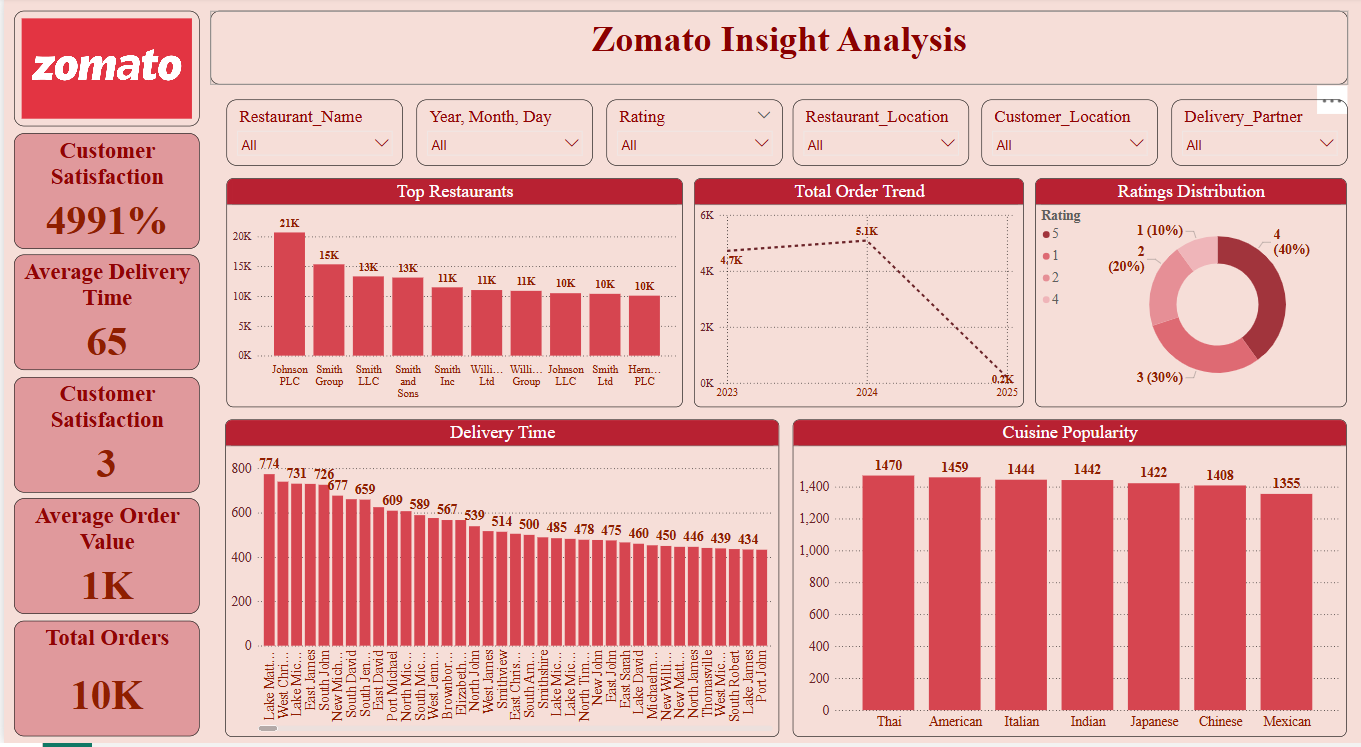

What the dashboard file says about the page in this screenshot:
{"tool":"powerbi","page":{"name":"Page 1","canvas":[2000,1100],"ordinal":0},"visuals":[{"type":"card","title":"Total Orders","fields":{"Values":["Count(Sheet1.Order_ID)"]},"box":[15,919.5,273.4,170.4],"z":0},{"type":"card","title":"Average Delivery Time","fields":{"Values":["Avg(Sheet1.Delivery_Time_Minutes)"]},"box":[15,380.1,273.4,170.4],"z":1000},{"type":"card","title":"Average Order Value","fields":{"Values":["Avg(Sheet1.Order_Amount)"]},"box":[15,739.7,273.4,170.4],"z":2000},{"type":"card","title":"Customer Satisfaction","fields":{"Values":["Avg(Sheet1.Rating)"]},"box":[15,559.9,273.4,170.4],"z":3000},{"type":"card","title":"Customer Satisfaction","fields":{"Values":["Sheet1.Discount Utilization (%)"]},"box":[15,200.4,273.4,170.4],"z":4000},{"type":"lineChart","title":"Total Order Trend","fields":{"Category":["Sheet1.Order_Date.Variation.Date Hierarchy.Year"],"Y":["CountNonNull(Sheet1.Order_ID)"]},"box":[1017.4,267.3,486.6,337.3],"z":5000},{"type":"columnChart","title":" Delivery Time","fields":{"Category":["Sheet1.Customer_Location"],"Y":["Sum(Sheet1.Delivery_Time_Minutes)"]},"box":[326.2,623,816.5,468.2],"z":6000},{"type":"columnChart","title":"Top Restaurants","fields":{"Category":["Sheet1.Restaurant_Name"],"Y":["Sum(Sheet1.Order_Amount)"]},"box":[328.1,267.3,672.8,337.3],"z":7000},{"type":"donutChart","title":"Ratings Distribution","fields":{"Category":["Sheet1.Rating"],"Y":["CountNonNull(Sheet1.Order_ID)"]},"box":[1520.6,267.3,459,337.3],"z":8000},{"type":"columnChart","title":"Cuisine Popularity","fields":{"Category":["Sheet1.Cuisine"],"Y":["CountNonNull(Sheet1.Order_ID)"]},"box":[1163,623,816.5,468.2],"z":9000},{"type":"textbox","box":[303.4,20.6,1677.9,108.6],"z":10000},{"type":"slicer","fields":{"Values":["Sheet1.Restaurant_Name"]},"box":[327.7,151.7,260.3,97.4],"z":11000},{"type":"slicer","fields":{"Values":["Sheet1.Customer_Location"]},"box":[1441.9,151.7,260.3,97.4],"z":12000},{"type":"slicer","fields":{"Values":["Sheet1.Delivery_Partner"]},"box":[1721,151.7,260.3,97.4],"z":13000},{"type":"slicer","fields":{"Values":["Sheet1.Rating"]},"box":[887.6,151.7,260.3,97.4],"z":14000},{"type":"slicer","fields":{"Values":["Sheet1.Restaurant_Location"]},"box":[1162.9,151.7,260.3,97.4],"z":15000},{"type":"slicer","fields":{"Values":["Sheet1.Order_Date.Variation.Date Hierarchy.Year","Sheet1.Order_Date.Variation.Date Hierarchy.Month","Sheet1.Order_Date.Variation.Date Hierarchy.Day"]},"box":[608.6,151.7,260.3,97.4],"z":16000},{"type":"image","box":[15,20.6,273.4,170.4],"z":17000}]}

Visuals, with their boxes in screenshot pixels (x1, y1, x2, y2), scaled from the page's 2000x1100 canvas onto the 1361x747 screenshot:
"Total Orders" card: {"left": 10, "top": 624, "right": 196, "bottom": 740}
"Average Delivery Time" card: {"left": 10, "top": 258, "right": 196, "bottom": 374}
"Average Order Value" card: {"left": 10, "top": 502, "right": 196, "bottom": 618}
"Customer Satisfaction" card: {"left": 10, "top": 380, "right": 196, "bottom": 496}
"Customer Satisfaction" card: {"left": 10, "top": 136, "right": 196, "bottom": 252}
"Total Order Trend" lineChart: {"left": 692, "top": 182, "right": 1023, "bottom": 411}
" Delivery Time" columnChart: {"left": 222, "top": 423, "right": 778, "bottom": 741}
"Top Restaurants" columnChart: {"left": 223, "top": 182, "right": 681, "bottom": 411}
"Ratings Distribution" donutChart: {"left": 1035, "top": 182, "right": 1347, "bottom": 411}
"Cuisine Popularity" columnChart: {"left": 791, "top": 423, "right": 1347, "bottom": 741}
textbox: {"left": 206, "top": 14, "right": 1348, "bottom": 88}
slicer - Sheet1.Restaurant_Name: {"left": 223, "top": 103, "right": 400, "bottom": 169}
slicer - Sheet1.Customer_Location: {"left": 981, "top": 103, "right": 1158, "bottom": 169}
slicer - Sheet1.Delivery_Partner: {"left": 1171, "top": 103, "right": 1348, "bottom": 169}
slicer - Sheet1.Rating: {"left": 604, "top": 103, "right": 781, "bottom": 169}
slicer - Sheet1.Restaurant_Location: {"left": 791, "top": 103, "right": 968, "bottom": 169}
slicer - Sheet1.Order_Date.Variation.Date Hierarchy.Year x Sheet1.Order_Date.Variation.Date Hierarchy.Month: {"left": 414, "top": 103, "right": 591, "bottom": 169}
image: {"left": 10, "top": 14, "right": 196, "bottom": 130}
